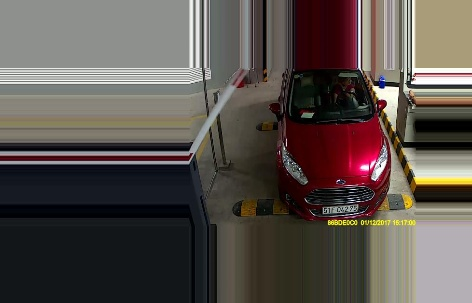plate: (321, 203, 358, 215)
